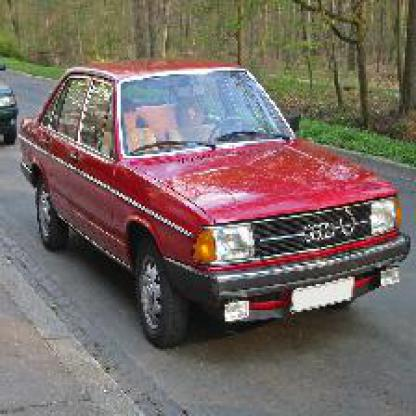not_emergency: (11, 54, 414, 349)
